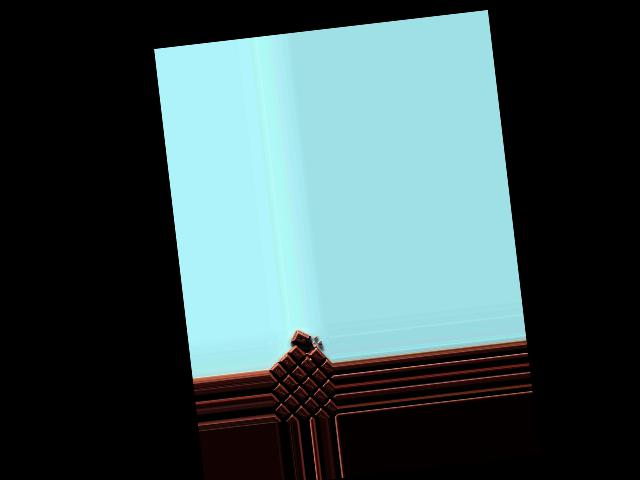chocolate: (268, 336, 337, 424)
